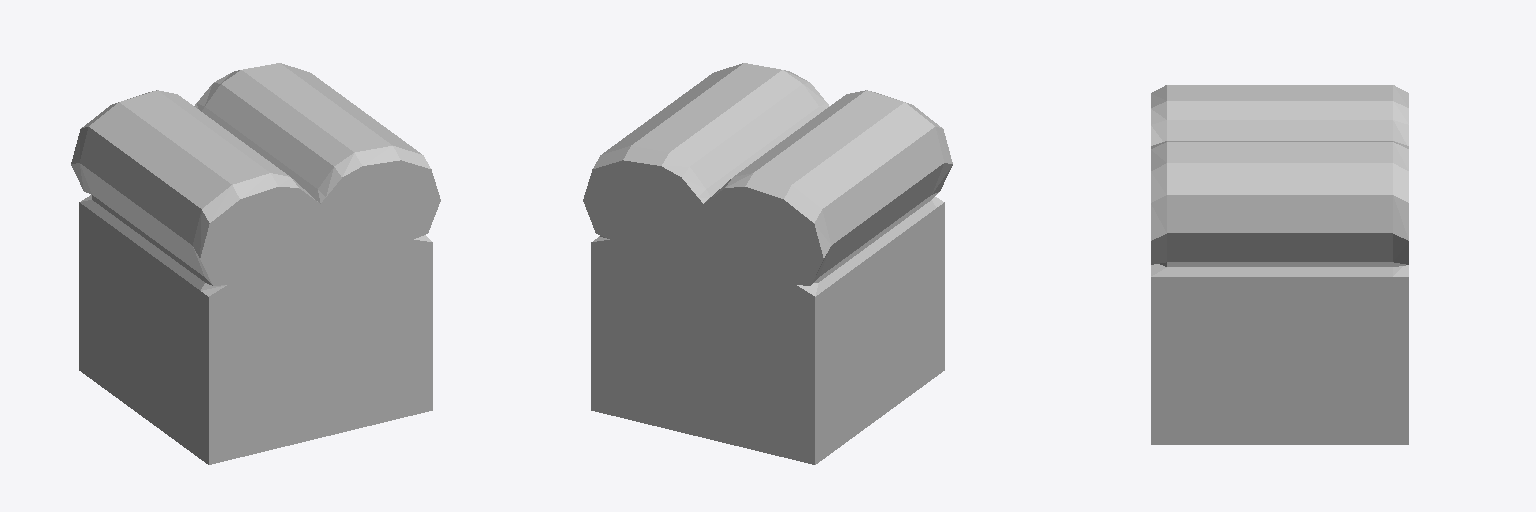
Rendered from toast.obj.
3 renders of one model, left to right at view 1: azimuth 30°, elevation 25°; view 2: azimuth 150°, elevation 25°; view 3: azimuth 270°, elevation 25°, orthographic.
Parts seen in each view (by area): view 1: pCube1; view 2: pCube1; view 3: pCube1.
Boxes of the visible parts, x1=… form: pCube1: x1=71, y1=63, x2=440, y2=464; pCube1: x1=583, y1=63, x2=952, y2=464; pCube1: x1=1151, y1=85, x2=1408, y2=444.
Size of the model in its own units: 11.79 by 12.59 by 10.95.